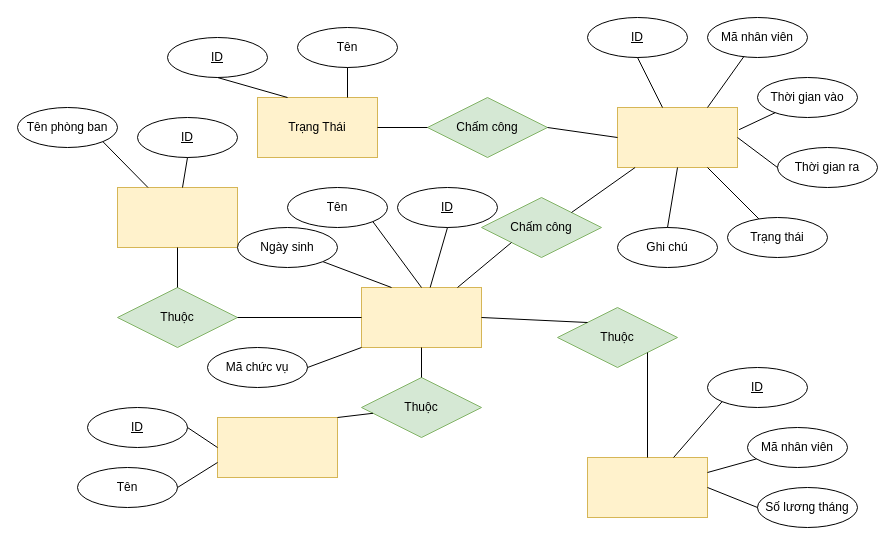
Some shapes in this 895 by 545 pixel diagram are drawn without their labels. Here are the shapes that lost their labels. From the top down, the centre of each, then its label:
(677,137): Công
(177,217): Phòng ban
(421,317): Nhân Viên
(277,447): Chức Vụ
(647,487): Lương
